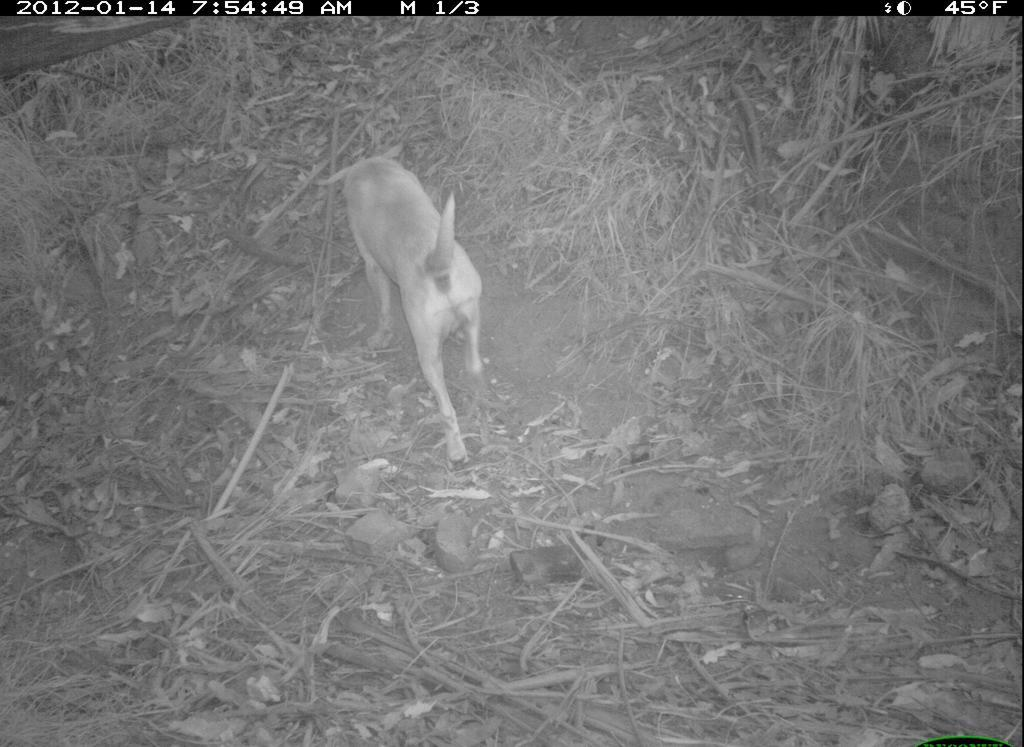dog: (315, 142, 504, 475)
